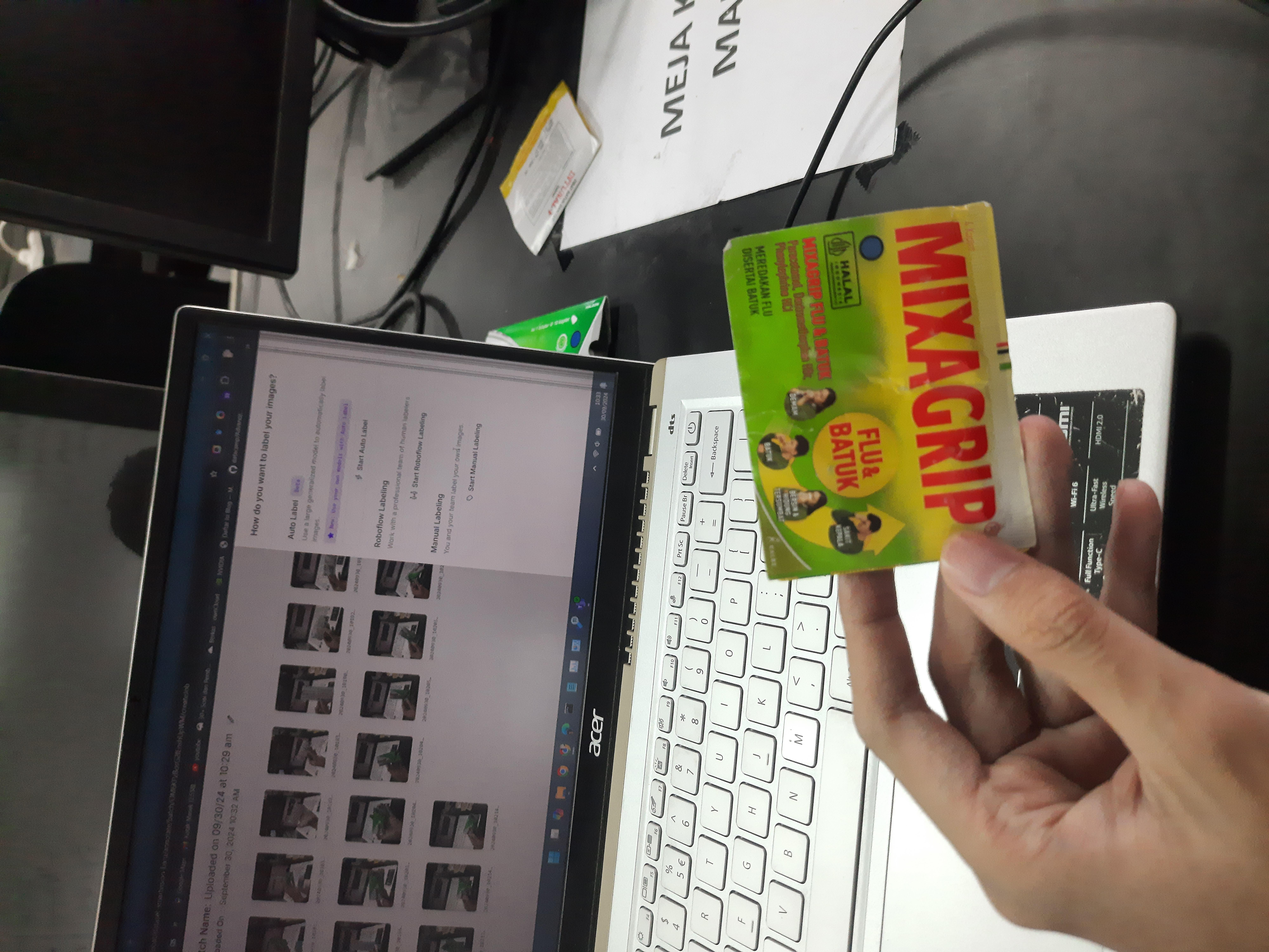Mixagrip Flu dan Batuk: (494, 541, 1001, 778)
